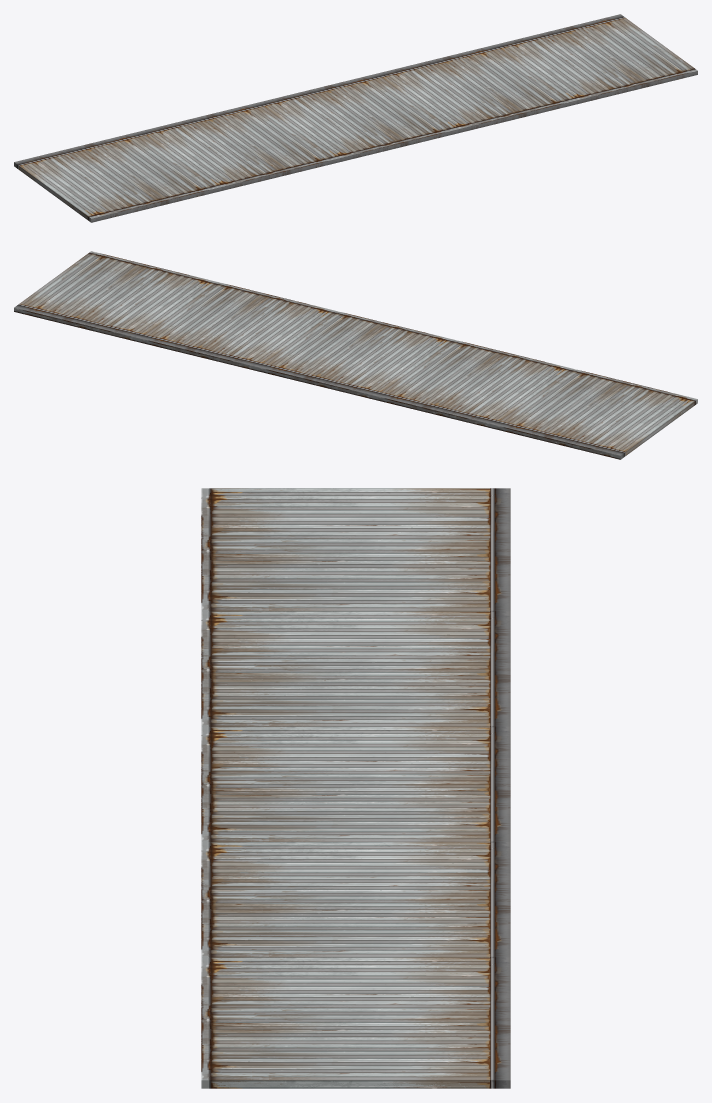
File: roof_container_15m.fbx
The picture shows the model from 3 angles, top to bottom: view 1: azimuth 30°, elevation 25°; view 2: azimuth 150°, elevation 25°; view 3: azimuth 270°, elevation 25°; orthographic projection. The views are drawn at different scales.
Visible parts, largest first — view 1: roof_container_15m; view 2: roof_container_15m; view 3: roof_container_15m.
Boxes of the visible parts, bbox=[...] form: roof_container_15m: bbox=[14, 14, 697, 222]; roof_container_15m: bbox=[14, 251, 697, 459]; roof_container_15m: bbox=[201, 488, 510, 1088].
Size of the model in its own units: 1540 by 10 by 340.
